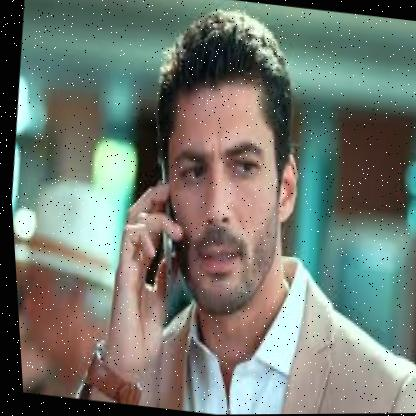person: (126, 9, 321, 324)
